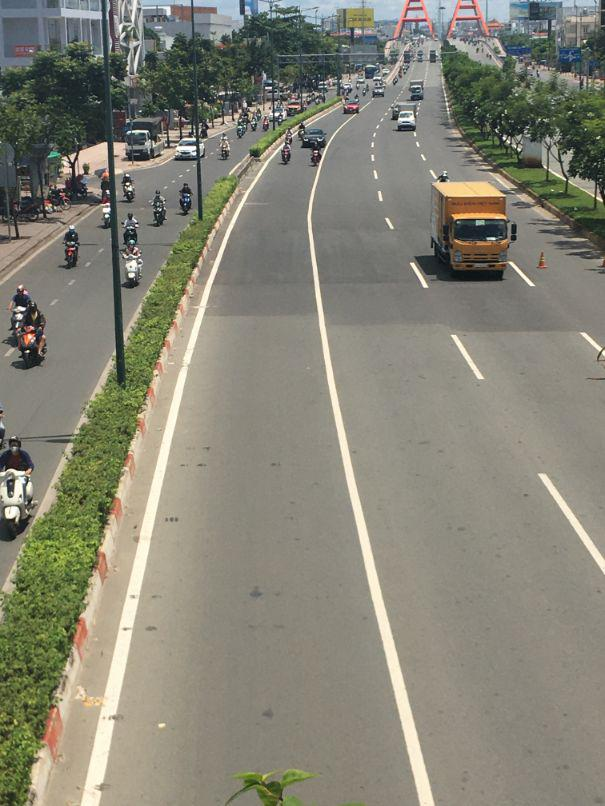car: (176, 140, 205, 162), (303, 127, 327, 146), (396, 111, 416, 133), (343, 99, 360, 116), (287, 100, 304, 115), (373, 81, 385, 97)
motorbike: (0, 446, 36, 539), (9, 313, 49, 372), (121, 243, 143, 287), (63, 229, 79, 268), (151, 191, 166, 225), (180, 185, 193, 214), (220, 138, 230, 161), (282, 147, 291, 165)
truck: (429, 174, 513, 276), (410, 81, 425, 100)
